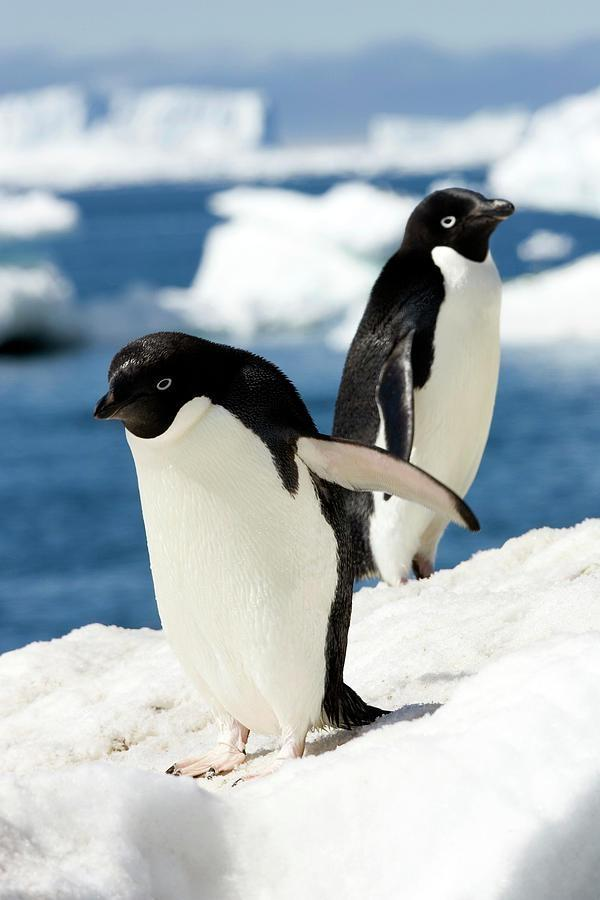Penguin: (95, 332, 478, 776), (334, 188, 515, 495), (342, 490, 446, 584)
